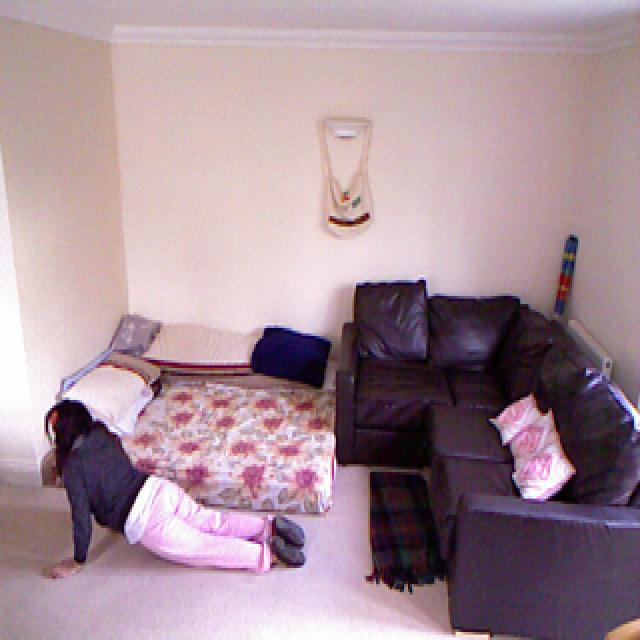crawling: (30, 396, 315, 588)
